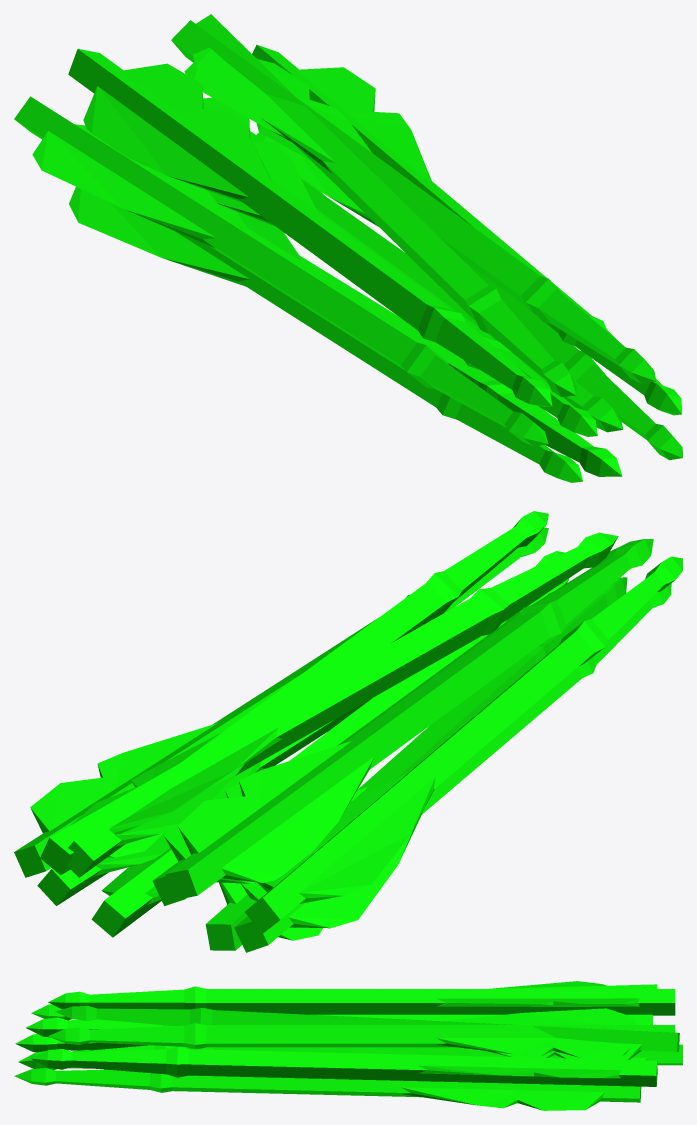
File: SM_Bolts_Pile_B_Fantasy.fbx
The picture shows the model from 3 angles, top to bottom: view 1: azimuth 30°, elevation 25°; view 2: azimuth 150°, elevation 25°; view 3: azimuth 270°, elevation 25°; orthographic projection. The views are drawn at different scales.
Parts seen in each view (by area): view 1: bolts-pile-b-fantasy; view 2: bolts-pile-b-fantasy; view 3: bolts-pile-b-fantasy.
Part boxes in pixels (left/top/right/bottom): bolts-pile-b-fantasy: left=14, top=14, right=682, bottom=482; bolts-pile-b-fantasy: left=14, top=511, right=682, bottom=952; bolts-pile-b-fantasy: left=14, top=981, right=682, bottom=1110.
Size of the model in its own units: 0.1112 by 0.0395 by 0.2992.
